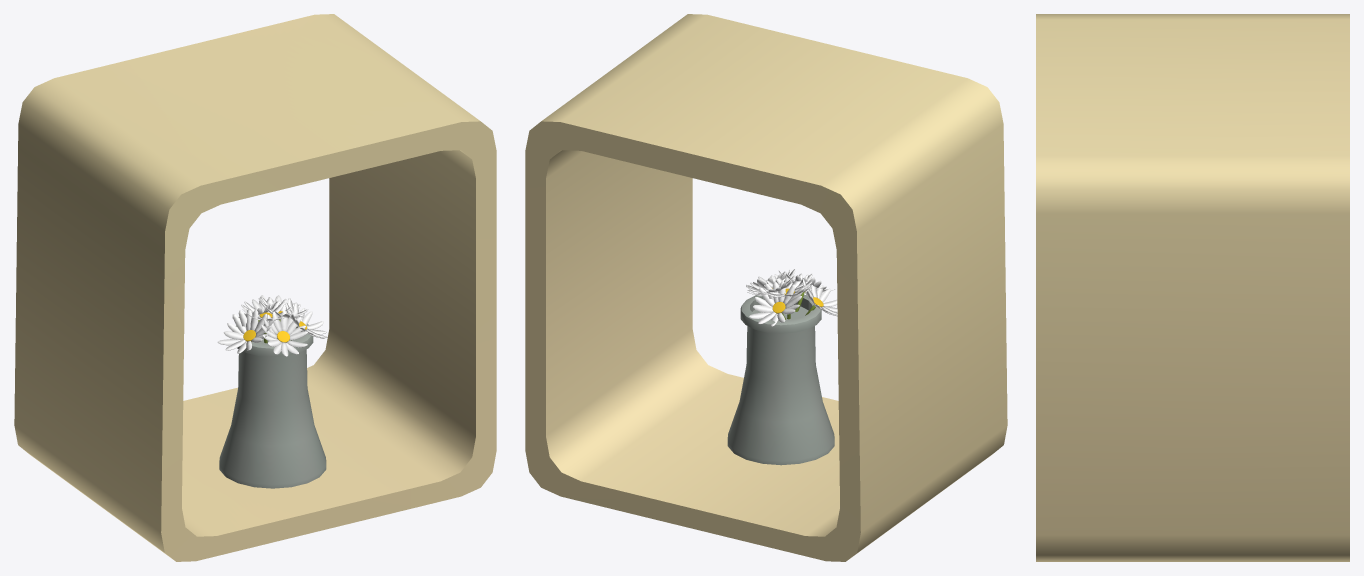
Rendered from Modular_bookshelf_part_2.FBX.
The picture shows the model from 3 angles, left to right: view 1: azimuth 30°, elevation 25°; view 2: azimuth 150°, elevation 25°; view 3: azimuth 270°, elevation 25°; orthographic projection. The views are drawn at different scales.
Visible parts, largest first — view 1: Modular_bookshelf_part_2; view 2: Modular_bookshelf_part_2; view 3: Modular_bookshelf_part_2.
Part boxes in pixels (x1,y1,x2,y2): Modular_bookshelf_part_2: [14, 14, 496, 561]; Modular_bookshelf_part_2: [525, 14, 1007, 561]; Modular_bookshelf_part_2: [1036, 14, 1349, 561].
Bounding box in the file's own units: 30.14 × 32.15 × 22.83.
1 material, 1 textured.
